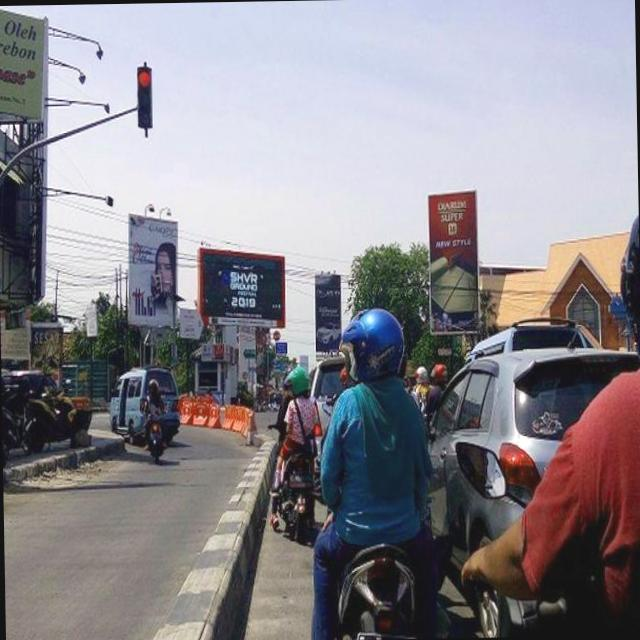Czerwone swiatlo: (136, 65, 152, 128)
